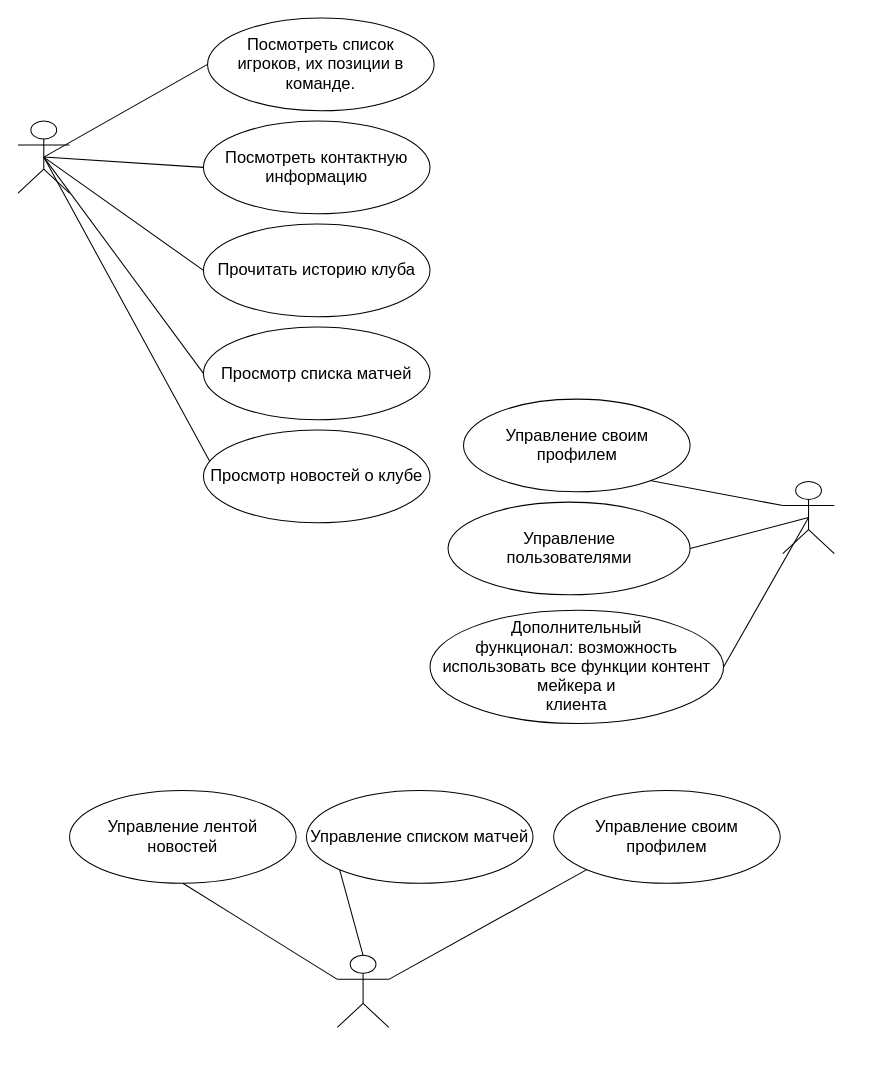
The diagram is 871 pixels wide and 1067 high, and some of its shapes have lost their labels. The shapes that lost their labels are listed below. From the top down, each one's box as (x1, y1, x2, y2) in pixels, then its label:
(17, 120, 70, 193): Клиент
(782, 480, 834, 554): Администратор
(336, 954, 389, 1027): Контент мейкер
